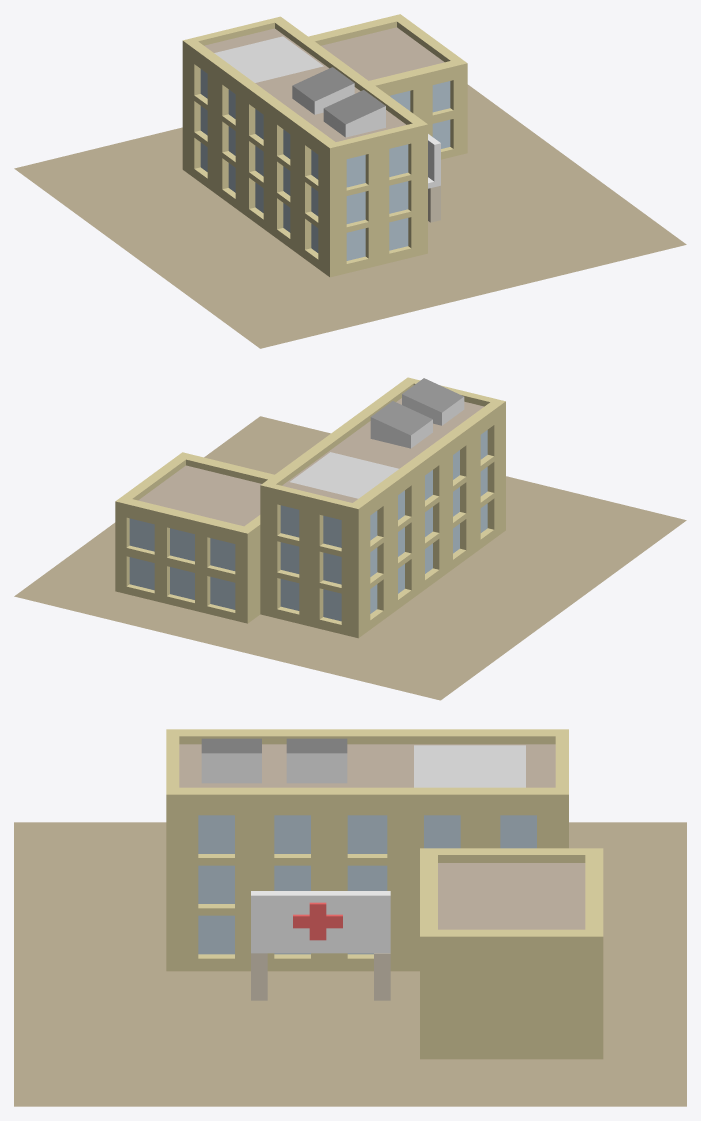
The model's file is HospitalVRML.dae.
3 renders of one model, top to bottom at view 1: azimuth 30°, elevation 25°; view 2: azimuth 150°, elevation 25°; view 3: azimuth 270°, elevation 25°, orthographic. The views are drawn at different scales.
Parts seen in each view (by area): view 1: pPlane2, pCube1, pCube4, pPlane1, pCube5, pasted__pCube5, pasted__pCube3; view 2: pPlane2, pCube1, pCube4, pPlane1, pasted__pCube5, pCube5; view 3: pPlane2, pCube1, pCube4, pasted__pCube3, pPlane1, pasted__pCube5, pCube5, pCube3, pasted__pCube2, pasted__pasted__pCube2, pasted__pCube6.
Boxes of the visible parts, box(x1,y1,x2,y2) form: pPlane2: box(14, 84, 686, 348); pCube1: box(182, 16, 427, 277); pCube4: box(308, 14, 467, 159); pPlane1: box(214, 36, 323, 82); pCube5: box(323, 90, 385, 137); pasted__pCube5: box(292, 67, 354, 114); pasted__pCube3: box(428, 134, 440, 181); pPlane2: box(14, 416, 686, 700); pCube1: box(260, 377, 505, 638); pCube4: box(115, 452, 274, 623); pPlane1: box(290, 452, 398, 498); pasted__pCube5: box(370, 401, 432, 448); pCube5: box(402, 378, 464, 425); pPlane2: box(14, 822, 686, 1106); pCube1: box(166, 729, 568, 971); pCube4: box(420, 848, 603, 1059); pasted__pCube3: box(251, 891, 390, 945); pPlane1: box(414, 745, 525, 787); pasted__pCube5: box(286, 738, 347, 783); pCube5: box(201, 738, 261, 783); pCube3: box(251, 946, 390, 953); pasted__pCube2: box(251, 953, 267, 1000); pasted__pasted__pCube2: box(374, 953, 390, 1000); pasted__pCube6: box(293, 914, 342, 928).
Bounding box in the file's own units: 78.87 × 78.87 × 25.64.
